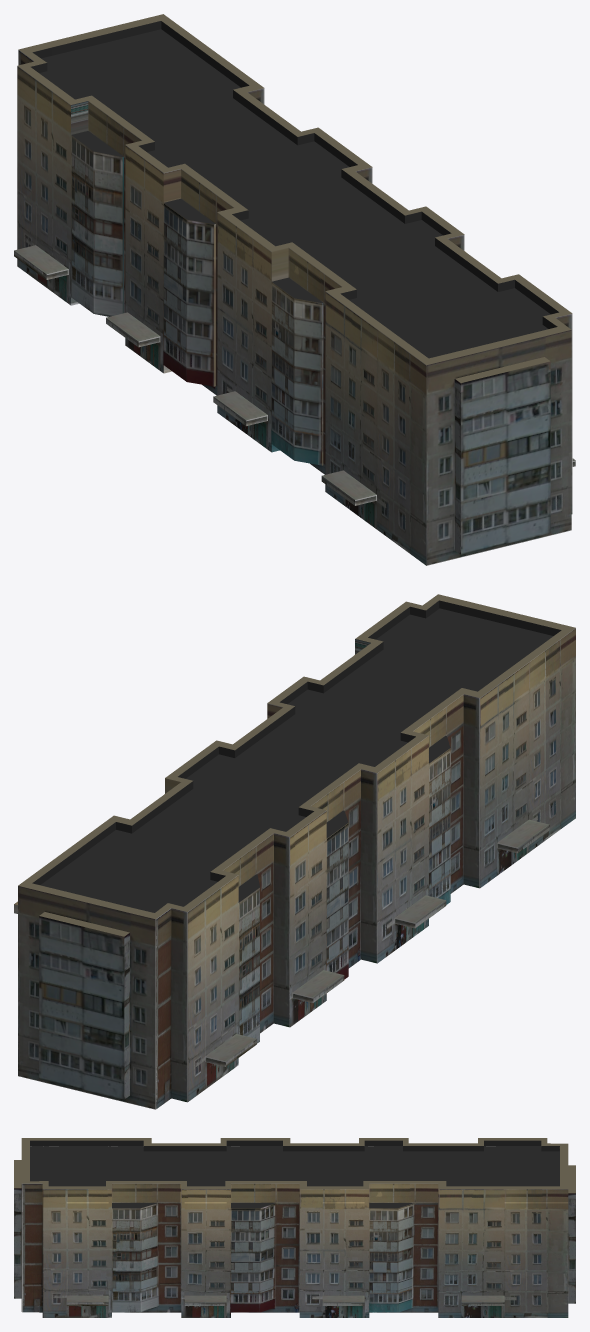
Rendered from neighbor-3.fbx.
3 renders of one model, top to bottom at view 1: azimuth 30°, elevation 25°; view 2: azimuth 150°, elevation 25°; view 3: azimuth 270°, elevation 25°, orthographic. The views are drawn at different scales.
Parts seen in each view (by area): view 1: Building; view 2: Building; view 3: Building.
Boxes of the visible parts, box(x1,y1,x2,y2) form: Building: box(14, 14, 575, 565); Building: box(14, 594, 575, 1109); Building: box(14, 1138, 575, 1317).
Bounding box in the file's own units: 1614 × 1500 × 5929.
2 materials, 1 textured.
